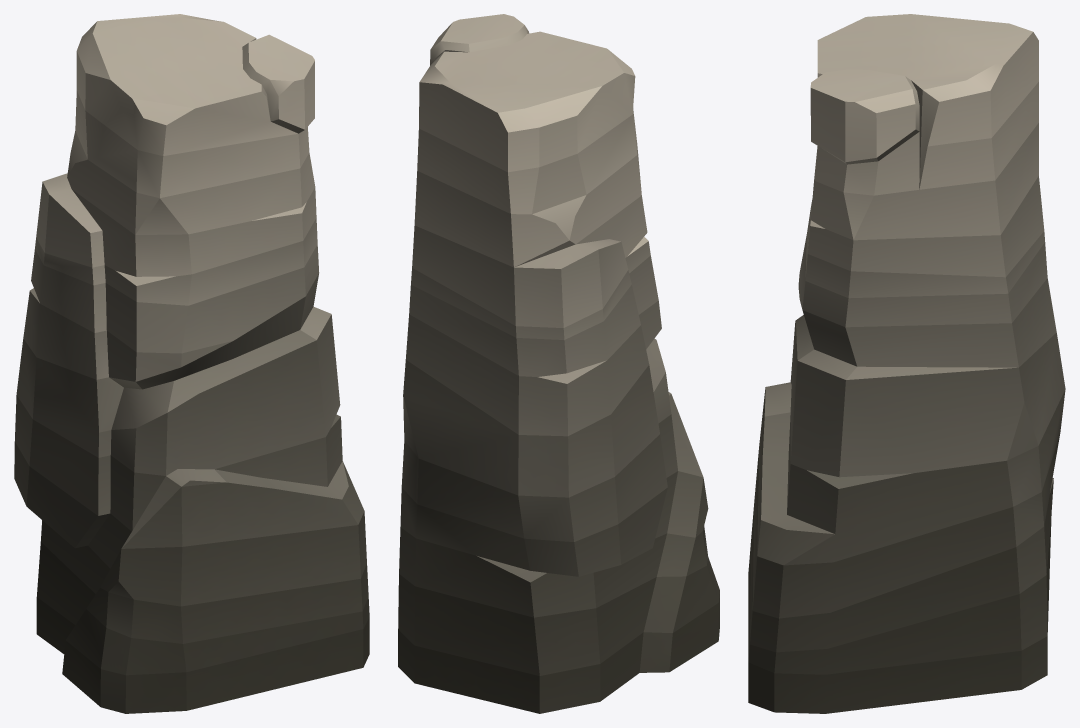
Rendered from Canyon_Wall_4A.fbx.
3 renders of one model, left to right at view 1: azimuth 30°, elevation 25°; view 2: azimuth 150°, elevation 25°; view 3: azimuth 270°, elevation 25°, orthographic. The views are drawn at different scales.
Parts seen in each view (by area): view 1: Canyon_Wall_4A; view 2: Canyon_Wall_4A; view 3: Canyon_Wall_4A.
Part boxes in pixels (x1,y1,x2,y2): Canyon_Wall_4A: (14,14,369,713); Canyon_Wall_4A: (398,14,719,713); Canyon_Wall_4A: (748,14,1065,713).
Size of the model in its own units: 14.48 by 30.95 by 14.67.
